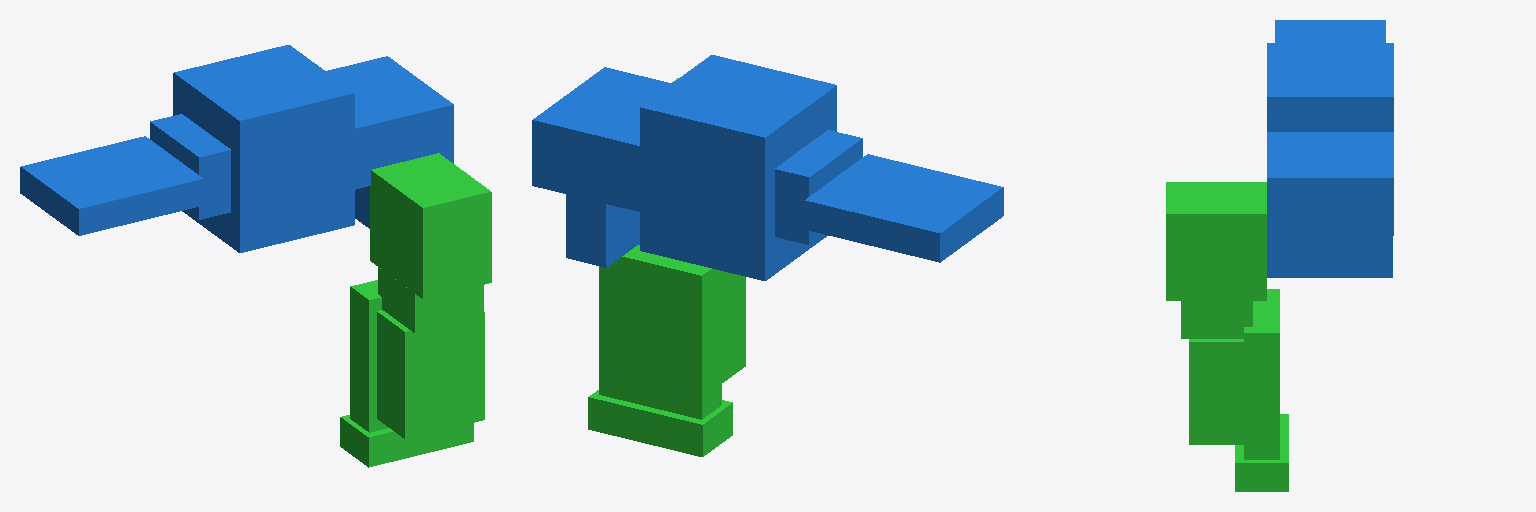
robot.urdf — robot:
<robot name = "robot">
    <link name="Link0">
        <inertial>
            <origin xyz="0 0 2" rpy="0 0 0"/>
            <mass value="0.3053225868731224" />
            <inertia ixx="100" ixy="0" ixz="0" iyy="100" iyz="0" izz="100" />
        </inertial>
        <visual>
            <origin xyz="0 0 2" rpy="0 0 0"/>
            <geometry>
                <box size="1.223252551767068 0.9875885099166811 0.25273580604540036" />
            </geometry>
            <material name="No Sensor">
                <color rgba="0.184 0.553 0.933 1.0"/>
            </material>
        </visual>
        <collision>
            <origin xyz="0 0 2" rpy="0 0 0"/>
            <geometry>
                <box size="1.223252551767068 0.9875885099166811 0.25273580604540036" />
            </geometry>
        </collision>
    </link>
    <joint name="Link0_Link1" type="revolute">
       <parent link="Link0"/>
       <child  link="Link1"/>
       <origin rpy="0 0 0" xyz="0.611626275883534 0 2" />
       <axis xyz="1 0 0"/>
       <limit effort="0.0" lower="-3.14159" upper="3.14159" velocity="0.0"/>
    </joint>
    <link name="Link1">
        <inertial>
            <origin xyz="0.15668025568701766 0 0" rpy="0 0 0"/>
            <mass value="0.15312179469356602" />
            <inertia ixx="100" ixy="0" ixz="0" iyy="100" iyz="0" izz="100" />
        </inertial>
        <visual>
            <origin xyz="0.15668025568701766 0 0" rpy="0 0 0"/>
            <geometry>
                <box size="0.3133605113740353 0.8342694052275808 0.5857151077556031" />
            </geometry>
            <material name="No Sensor">
                <color rgba="0.184 0.553 0.933 1.0"/>
            </material>
        </visual>
        <collision>
            <origin xyz="0.15668025568701766 0 0" rpy="0 0 0"/>
            <geometry>
                <box size="0.3133605113740353 0.8342694052275808 0.5857151077556031" />
            </geometry>
        </collision>
    </link>
    <joint name="Link1_Link2" type="revolute">
       <parent link="Link1"/>
       <child  link="Link2"/>
       <origin rpy="0 0 0" xyz="0.3133605113740353 0.0 0.0" />
       <axis xyz="0 1 0"/>
       <limit effort="0.0" lower="-3.14159" upper="3.14159" velocity="0.0"/>
    </joint>
    <link name="Link2">
        <inertial>
            <origin xyz="0.5659167403758983 0.0 0.0" rpy="0 0 0"/>
            <mass value="1.5738847324629939" />
            <inertia ixx="100" ixy="0" ixz="0" iyy="100" iyz="0" izz="100" />
        </inertial>
        <visual>
            <origin xyz="0.5659167403758983 0.0 0.0" rpy="0 0 0"/>
            <geometry>
                <box size="1.1318334807517967 1.1236693693569384 1.2375189087044416" />
            </geometry>
            <material name="No Sensor">
                <color rgba="0.184 0.553 0.933 1.0"/>
            </material>
        </visual>
        <collision>
            <origin xyz="0.5659167403758983 0.0 0.0" rpy="0 0 0"/>
            <geometry>
                <box size="1.1318334807517967 1.1236693693569384 1.2375189087044416" />
            </geometry>
        </collision>
    </link>
    <joint name="Link2_Link3" type="revolute">
       <parent link="Link2"/>
       <child  link="Link3"/>
       <origin rpy="0 0 0" xyz="1.1318334807517967 0.0 0.0" />
       <axis xyz="0 1 0"/>
       <limit effort="0.0" lower="-3.14159" upper="3.14159" velocity="0.0"/>
    </joint>
    <link name="Link3">
        <inertial>
            <origin xyz="0.48291598453629686 0.0 0.0" rpy="0 0 0"/>
            <mass value="0.6199959611826488" />
            <inertia ixx="100" ixy="0" ixz="0" iyy="100" iyz="0" izz="100" />
        </inertial>
        <visual>
            <origin xyz="0.48291598453629686 0.0 0.0" rpy="0 0 0"/>
            <geometry>
                <box size="0.9658319690725937 1.1268836998086516 0.5696501118620526" />
            </geometry>
            <material name="No Sensor">
                <color rgba="0.184 0.553 0.933 1.0"/>
            </material>
        </visual>
        <collision>
            <origin xyz="0.48291598453629686 0.0 0.0" rpy="0 0 0"/>
            <geometry>
                <box size="0.9658319690725937 1.1268836998086516 0.5696501118620526" />
            </geometry>
        </collision>
    </link>
    <joint name="Link3_Link4" type="revolute">
       <parent link="Link3"/>
       <child  link="Link4"/>
       <origin rpy="0 0 0" xyz="0.48291598453629686 0.0 -0.2848250559310263" />
       <axis xyz="1 0 0"/>
       <limit effort="0.0" lower="-3.14159" upper="3.14159" velocity="0.0"/>
    </joint>
    <link name="Link4">
        <inertial>
            <origin xyz="0.0 0.0 -0.2767362989807625" rpy="0 0 0"/>
            <mass value="0.22296300899048094" />
            <inertia ixx="100" ixy="0" ixz="0" iyy="100" iyz="0" izz="100" />
        </inertial>
        <visual>
            <origin xyz="0.0 0.0 -0.2767362989807625" rpy="0 0 0"/>
            <geometry>
                <box size="0.36117695191980603 1.1153641057823798 0.553472597961525" />
            </geometry>
            <material name="No Sensor">
                <color rgba="0.184 0.553 0.933 1.0"/>
            </material>
        </visual>
        <collision>
            <origin xyz="0.0 0.0 -0.2767362989807625" rpy="0 0 0"/>
            <geometry>
                <box size="0.36117695191980603 1.1153641057823798 0.553472597961525" />
            </geometry>
        </collision>
    </link>
    <joint name="Link4_Link5" type="revolute">
       <parent link="Link4"/>
       <child  link="Link5"/>
       <origin rpy="0 0 0" xyz="0.0 -0.5576820528911899 -0.2767362989807625" />
       <axis xyz="0 1 0"/>
       <limit effort="0.0" lower="-3.14159" upper="3.14159" velocity="0.0"/>
    </joint>
    <link name="Link5">
        <inertial>
            <origin xyz="0.0 -0.44801512853578634 0.0" rpy="0 0 0"/>
            <mass value="0.5128388573856506" />
            <inertia ixx="100" ixy="0" ixz="0" iyy="100" iyz="0" izz="100" />
        </inertial>
        <visual>
            <origin xyz="0.0 -0.44801512853578634 0.0" rpy="0 0 0"/>
            <geometry>
                <box size="0.6693322981668862 0.8960302570715727 0.8550991341555126" />
            </geometry>
            <material name="Sensor">
                <color rgba="0.239 0.875 0.282 1.0"/>
            </material>
        </visual>
        <collision>
            <origin xyz="0.0 -0.44801512853578634 0.0" rpy="0 0 0"/>
            <geometry>
                <box size="0.6693322981668862 0.8960302570715727 0.8550991341555126" />
            </geometry>
        </collision>
    </link>
    <joint name="Link5_Link6" type="revolute">
       <parent link="Link5"/>
       <child  link="Link6"/>
       <origin rpy="0 0 0" xyz="0.0 -0.44801512853578634 -0.4275495670777563" />
       <axis xyz="0 1 0"/>
       <limit effort="0.0" lower="-3.14159" upper="3.14159" velocity="0.0"/>
    </joint>
    <link name="Link6">
        <inertial>
            <origin xyz="0.0 0.0 -0.18634052092950315" rpy="0 0 0"/>
            <mass value="0.15906327383115731" />
            <inertia ixx="100" ixy="0" ixz="0" iyy="100" iyz="0" izz="100" />
        </inertial>
        <visual>
            <origin xyz="0.0 0.0 -0.18634052092950315" rpy="0 0 0"/>
            <geometry>
                <box size="0.6709230845148799 0.6361505118705936 0.3726810418590063" />
            </geometry>
            <material name="Sensor">
                <color rgba="0.239 0.875 0.282 1.0"/>
            </material>
        </visual>
        <collision>
            <origin xyz="0.0 0.0 -0.18634052092950315" rpy="0 0 0"/>
            <geometry>
                <box size="0.6709230845148799 0.6361505118705936 0.3726810418590063" />
            </geometry>
        </collision>
    </link>
    <joint name="Link6_Link7" type="revolute">
       <parent link="Link6"/>
       <child  link="Link7"/>
       <origin rpy="0 0 0" xyz="0.0 0.0 -0.3726810418590063" />
       <axis xyz="1 0 0"/>
       <limit effort="0.0" lower="-3.14159" upper="3.14159" velocity="0.0"/>
    </joint>
    <link name="Link7">
        <inertial>
            <origin xyz="0.0 0.0 -0.5024039255502306" rpy="0 0 0"/>
            <mass value="0.38031065050760476" />
            <inertia ixx="100" ixy="0" ixz="0" iyy="100" iyz="0" izz="100" />
        </inertial>
        <visual>
            <origin xyz="0.0 0.0 -0.5024039255502306" rpy="0 0 0"/>
            <geometry>
                <box size="0.7838618843034166 0.48285409724399597 1.0048078511004612" />
            </geometry>
            <material name="Sensor">
                <color rgba="0.239 0.875 0.282 1.0"/>
            </material>
        </visual>
        <collision>
            <origin xyz="0.0 0.0 -0.5024039255502306" rpy="0 0 0"/>
            <geometry>
                <box size="0.7838618843034166 0.48285409724399597 1.0048078511004612" />
            </geometry>
        </collision>
    </link>
    <joint name="Link7_Link8" type="revolute">
       <parent link="Link7"/>
       <child  link="Link8"/>
       <origin rpy="0 0 0" xyz="0.0 0.24142704862199799 -0.5024039255502306" />
       <axis xyz="1 0 0"/>
       <limit effort="0.0" lower="-3.14159" upper="3.14159" velocity="0.0"/>
    </joint>
    <link name="Link8">
        <inertial>
            <origin xyz="0.0 0.16096348240460723 0.0" rpy="0 0 0"/>
            <mass value="0.36897963386142957" />
            <inertia ixx="100" ixy="0" ixz="0" iyy="100" iyz="0" izz="100" />
        </inertial>
        <visual>
            <origin xyz="0.0 0.16096348240460723 0.0" rpy="0 0 0"/>
            <geometry>
                <box size="0.9248705841645001 0.32192696480921446 1.2392646847358004" />
            </geometry>
            <material name="Sensor">
                <color rgba="0.239 0.875 0.282 1.0"/>
            </material>
        </visual>
        <collision>
            <origin xyz="0.0 0.16096348240460723 0.0" rpy="0 0 0"/>
            <geometry>
                <box size="0.9248705841645001 0.32192696480921446 1.2392646847358004" />
            </geometry>
        </collision>
    </link>
    <joint name="Link8_Link9" type="revolute">
       <parent link="Link8"/>
       <child  link="Link9"/>
       <origin rpy="0 0 0" xyz="0.0 0.16096348240460723 -0.6196323423679002" />
       <axis xyz="0 1 0"/>
       <limit effort="0.0" lower="-3.14159" upper="3.14159" velocity="0.0"/>
    </joint>
    <link name="Link9">
        <inertial>
            <origin xyz="0.0 0.0 -0.14037140917484853" rpy="0 0 0"/>
            <mass value="0.1382318679157147" />
            <inertia ixx="100" ixy="0" ixz="0" iyy="100" iyz="0" izz="100" />
        </inertial>
        <visual>
            <origin xyz="0.0 0.0 -0.14037140917484853" rpy="0 0 0"/>
            <geometry>
                <box size="1.0304569355743411 0.4778258868905976 0.28074281834969705" />
            </geometry>
            <material name="Sensor">
                <color rgba="0.239 0.875 0.282 1.0"/>
            </material>
        </visual>
        <collision>
            <origin xyz="0.0 0.0 -0.14037140917484853" rpy="0 0 0"/>
            <geometry>
                <box size="1.0304569355743411 0.4778258868905976 0.28074281834969705" />
            </geometry>
        </collision>
    </link>
</robot>

--- Facts derived from the render (not from the file) ---
3 views of the same robot in one strip: view 1: azimuth 30°, elevation 25°; view 2: azimuth 150°, elevation 25°; view 3: azimuth 270°, elevation 25° (orthographic).
Robot: robot — 10 links, 9 joints (9 revolute); root link Link0; default pose: all joints at 0.
Links seen in each view (by area): view 1: Link2, Link5, Link0, Link7, Link3, Link1, Link8, Link6, Link9, Link4; view 2: Link2, Link8, Link0, Link3, Link9, Link1, Link4, Link7; view 3: Link3, Link5, Link2, Link7, Link8, Link4, Link6, Link0, Link9.
Link boxes in pixels (x1,y1,x2,y2): Link2: (173, 45, 354, 252); Link5: (370, 153, 491, 299); Link0: (20, 136, 203, 235); Link7: (377, 310, 484, 438); Link3: (326, 56, 453, 189); Link1: (150, 114, 230, 219); Link8: (350, 280, 388, 432); Link6: (378, 267, 483, 333); Link9: (340, 415, 473, 467); Link4: (355, 186, 369, 228); Link2: (640, 55, 836, 280); Link8: (599, 245, 721, 419); Link0: (804, 154, 1003, 262); Link3: (532, 67, 671, 211); Link9: (588, 390, 732, 456); Link1: (775, 130, 862, 244); Link4: (566, 194, 639, 267); Link7: (722, 271, 745, 382); Link3: (1267, 132, 1393, 235); Link5: (1166, 182, 1266, 300); Link2: (1267, 43, 1393, 131); Link7: (1189, 339, 1243, 444); Link8: (1244, 289, 1279, 459); Link4: (1267, 236, 1392, 277); Link6: (1181, 301, 1252, 338); Link0: (1275, 20, 1385, 42); Link9: (1235, 414, 1288, 491).
Bounding box of the posed robot: 3.67 × 2.02 × 3.38 m (x, y, z).
Geometry: primitives only (box / cylinder / sphere), no mesh files.